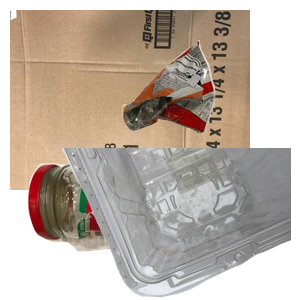cardboard: (10, 10, 250, 190)
glass: (25, 155, 227, 300)
plastic: (60, 148, 300, 300)
trash: (120, 38, 300, 164)
